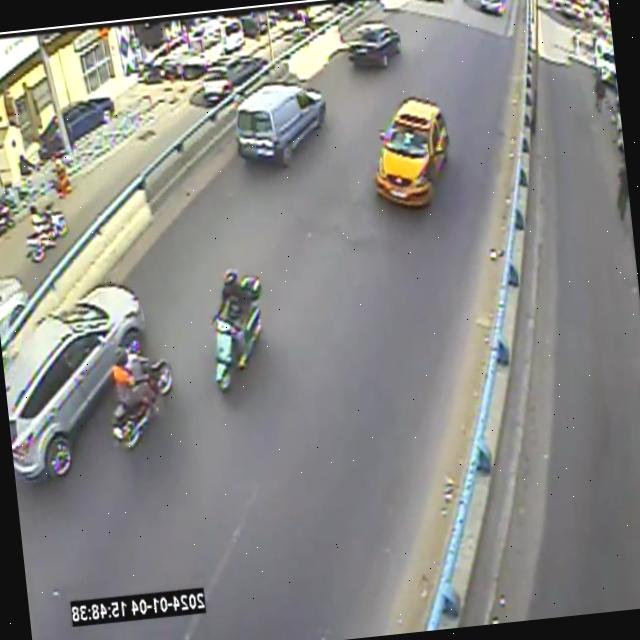car: (4, 284, 145, 478), (374, 95, 450, 205), (236, 81, 326, 165), (203, 55, 266, 104), (347, 21, 400, 66)
